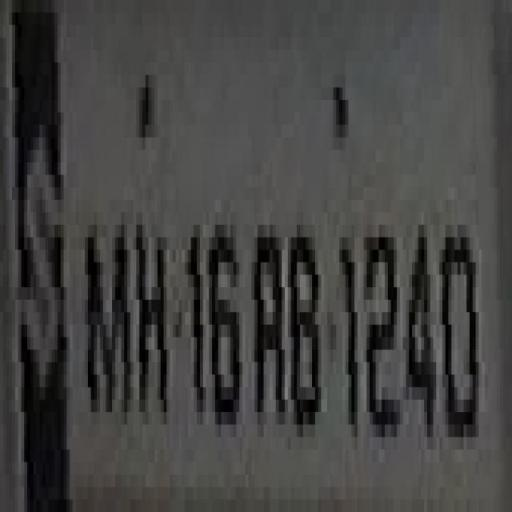number plate: (15, 62, 512, 474)
